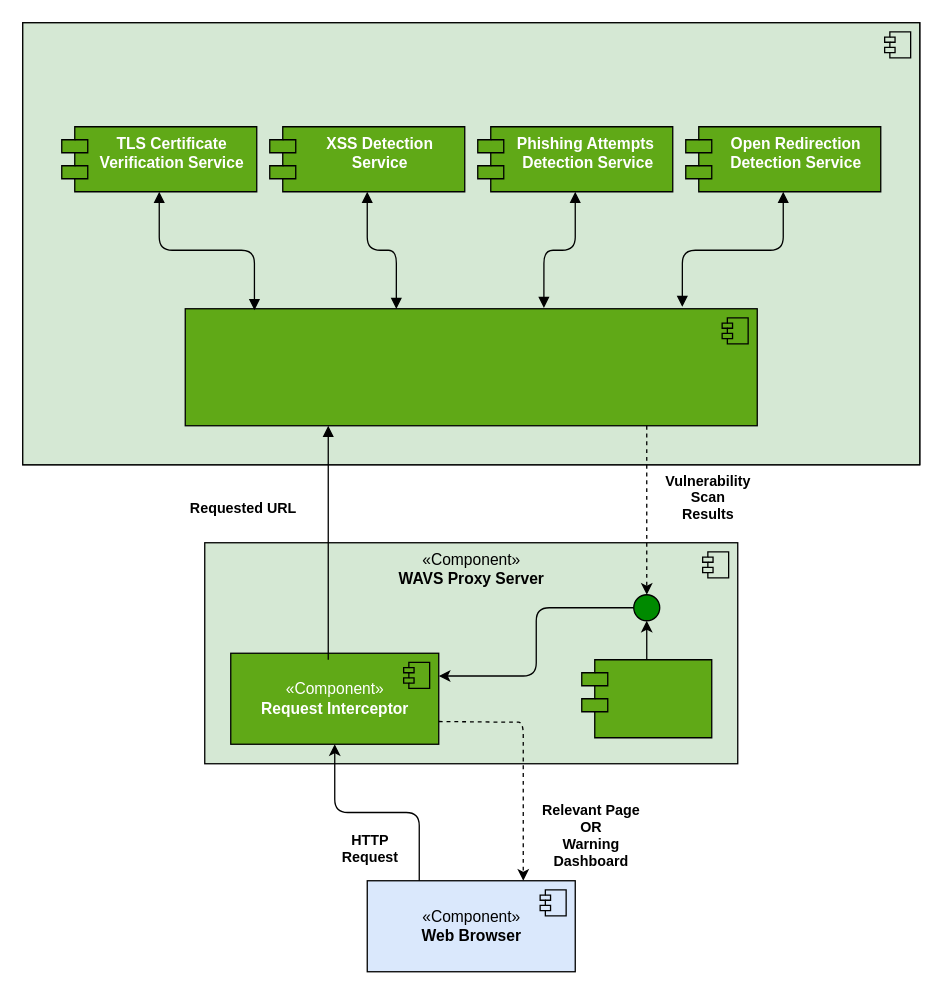
Image size: 942x994. Some labels were removed from this diagram. Here are the shapes that lost their labels. From the top down, the box of each, then its label:
(21, 21, 920, 465): «Component» WAVS Virtual Server
(184, 307, 757, 426): «Component» RESTful API
(580, 658, 712, 738): HTML Dashboard Template
